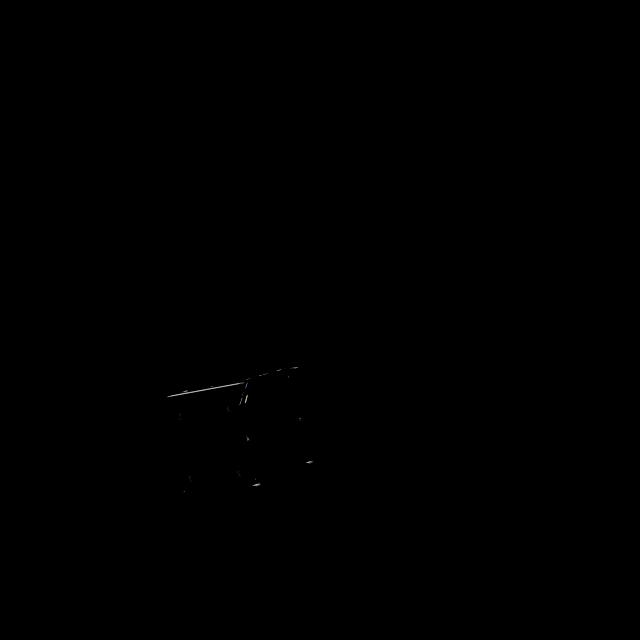medium_debris: (168, 356, 322, 506)
